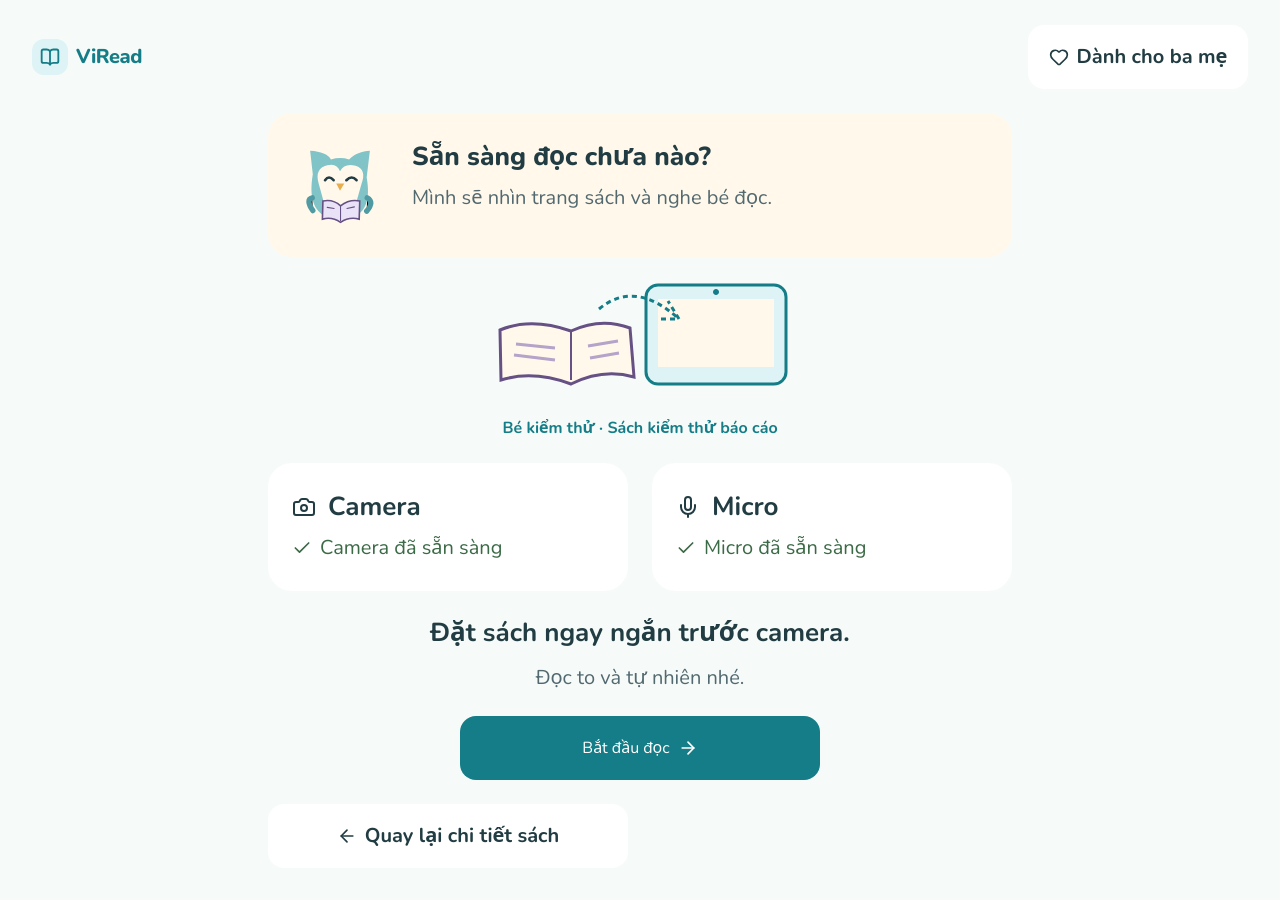
Test: ReadingScreen presentation with typed test-local service responses › starts the listening UI only after the control service resolves
The width and height of the screenshot is (1280, 900).
Click the button "Bắt đầu đọc": (640, 748) [460,716,820,780]
(page scrolled)
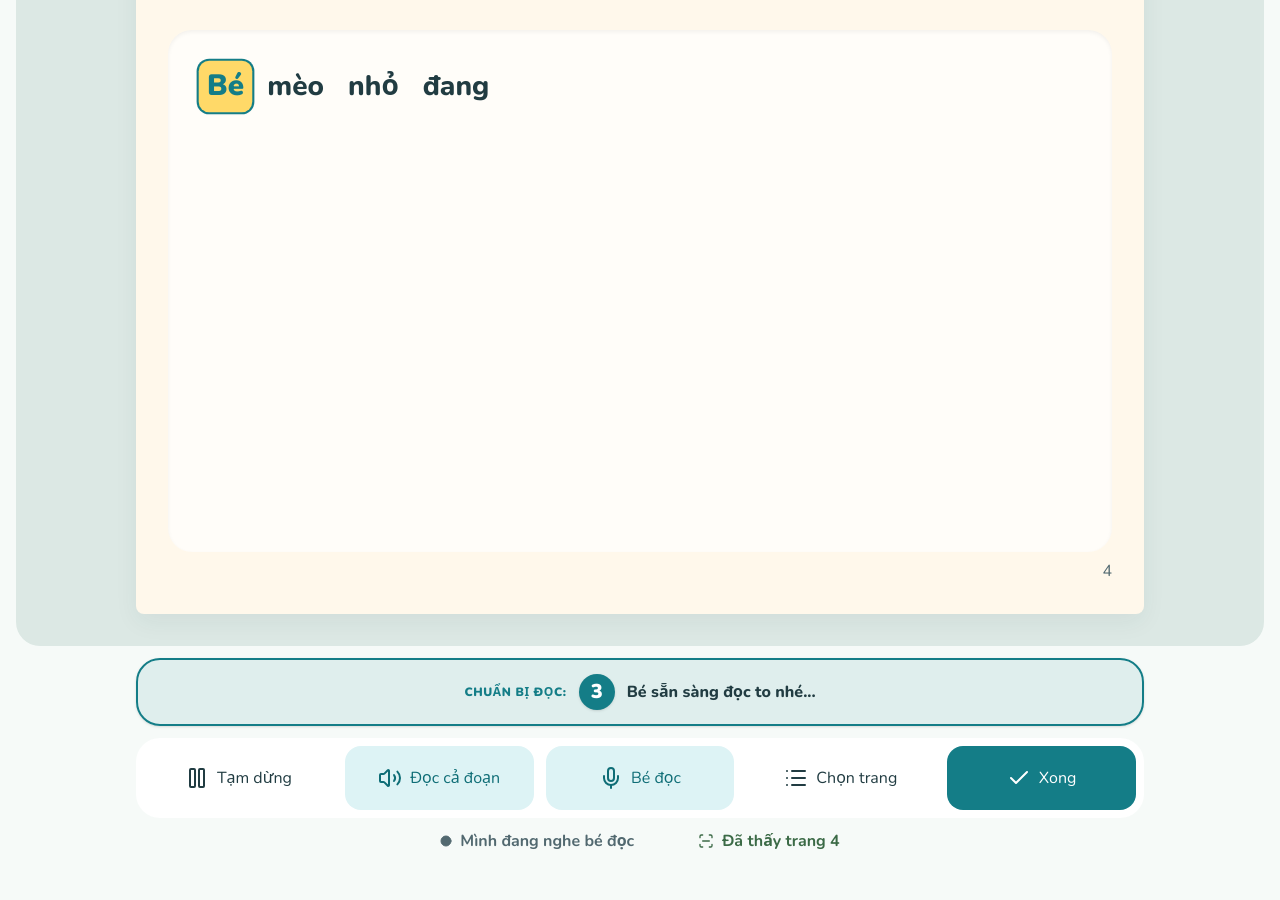
Expected: the navigation bar named "Điều khiển buổi đọc" is shown, [136,738,1144,818]
Expected: the text "Mình đang nghe bé đọc" is shown, [440,830,634,852]
